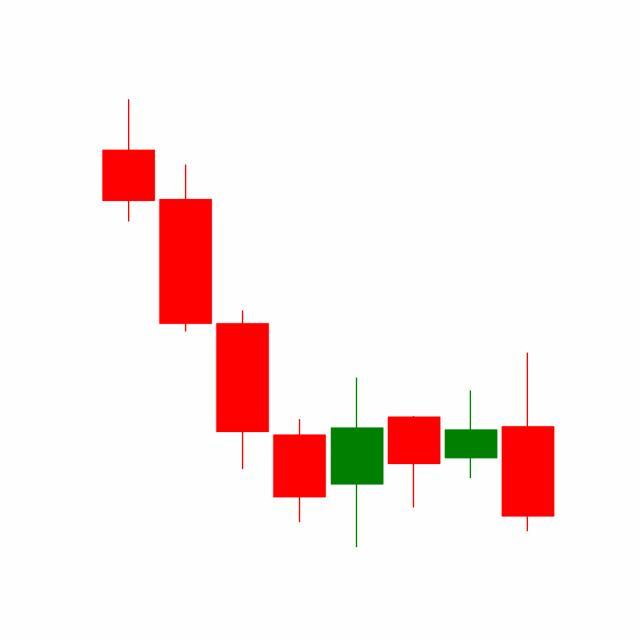Hikkake Pattern: (270, 349, 555, 548)
